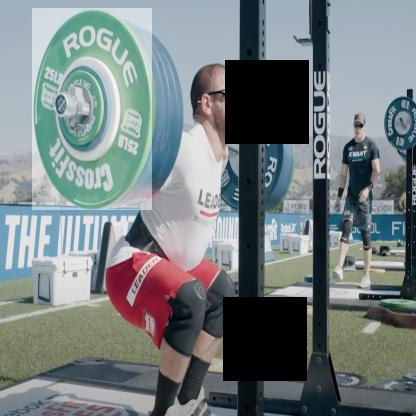barbell: (33, 10, 153, 212)
